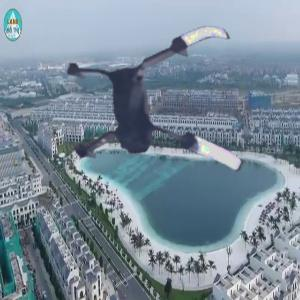drone: (41, 1, 266, 226)
